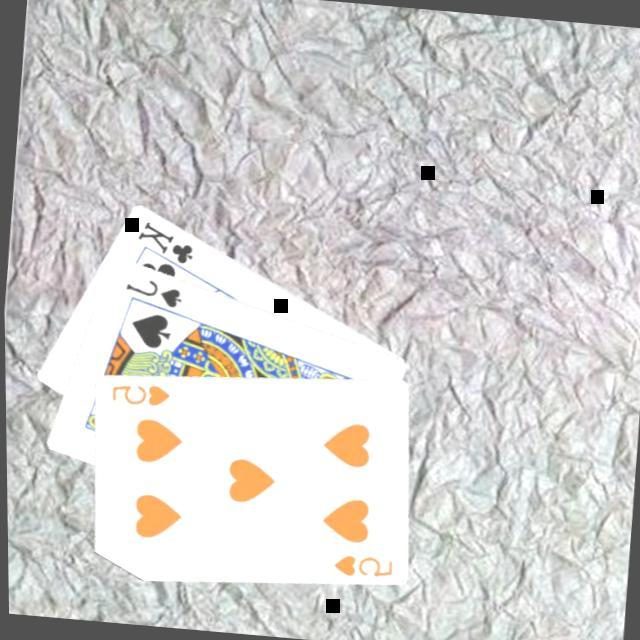5H: (328, 550, 396, 583), (107, 378, 173, 411)
JS: (121, 274, 186, 312)
KC: (132, 216, 200, 278)
